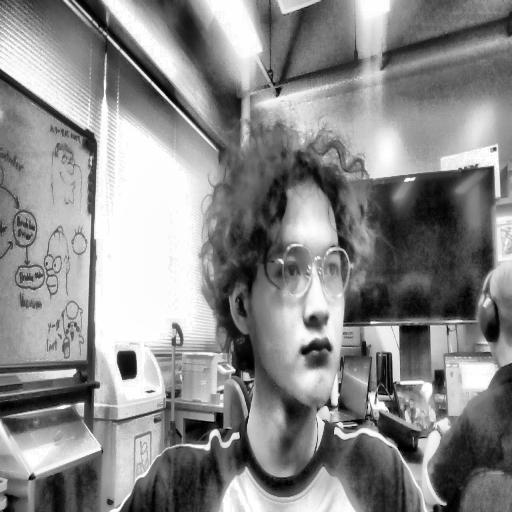Daifuku: (196, 125, 382, 418)
Not Daifuku: (471, 254, 512, 372)
